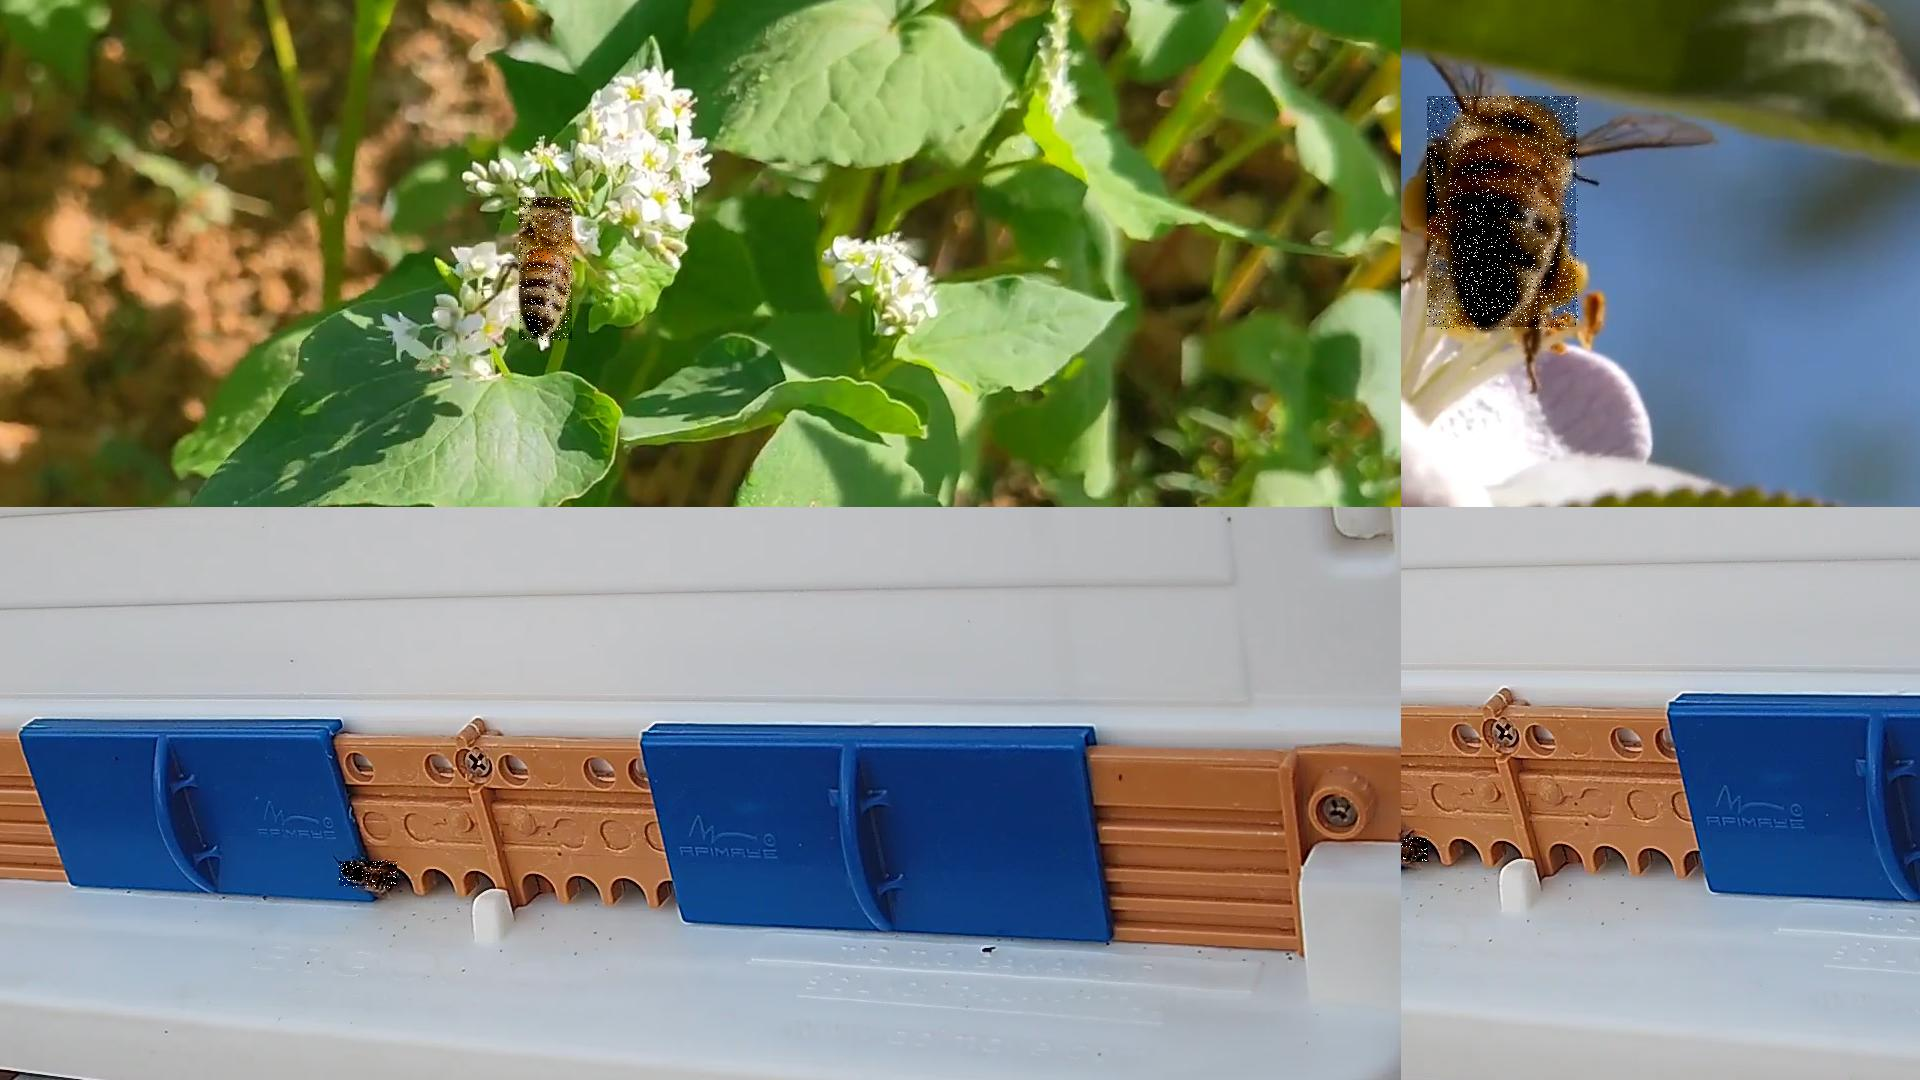bee: (520, 198, 574, 343), (339, 862, 398, 890), (1400, 837, 1429, 864)
pollenbee: (1428, 96, 1580, 331)
